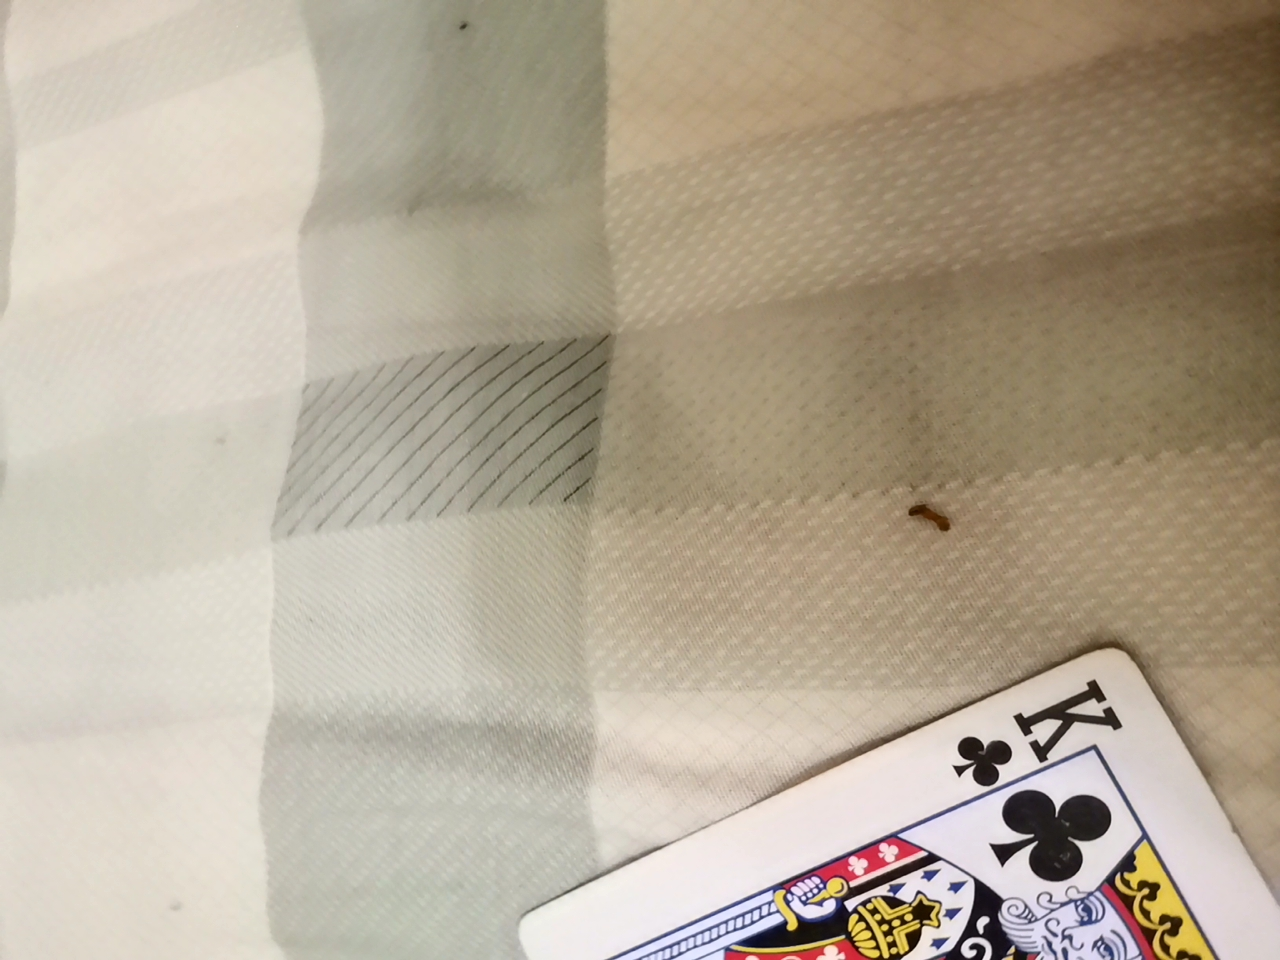mh k: (457, 663, 1280, 960)
